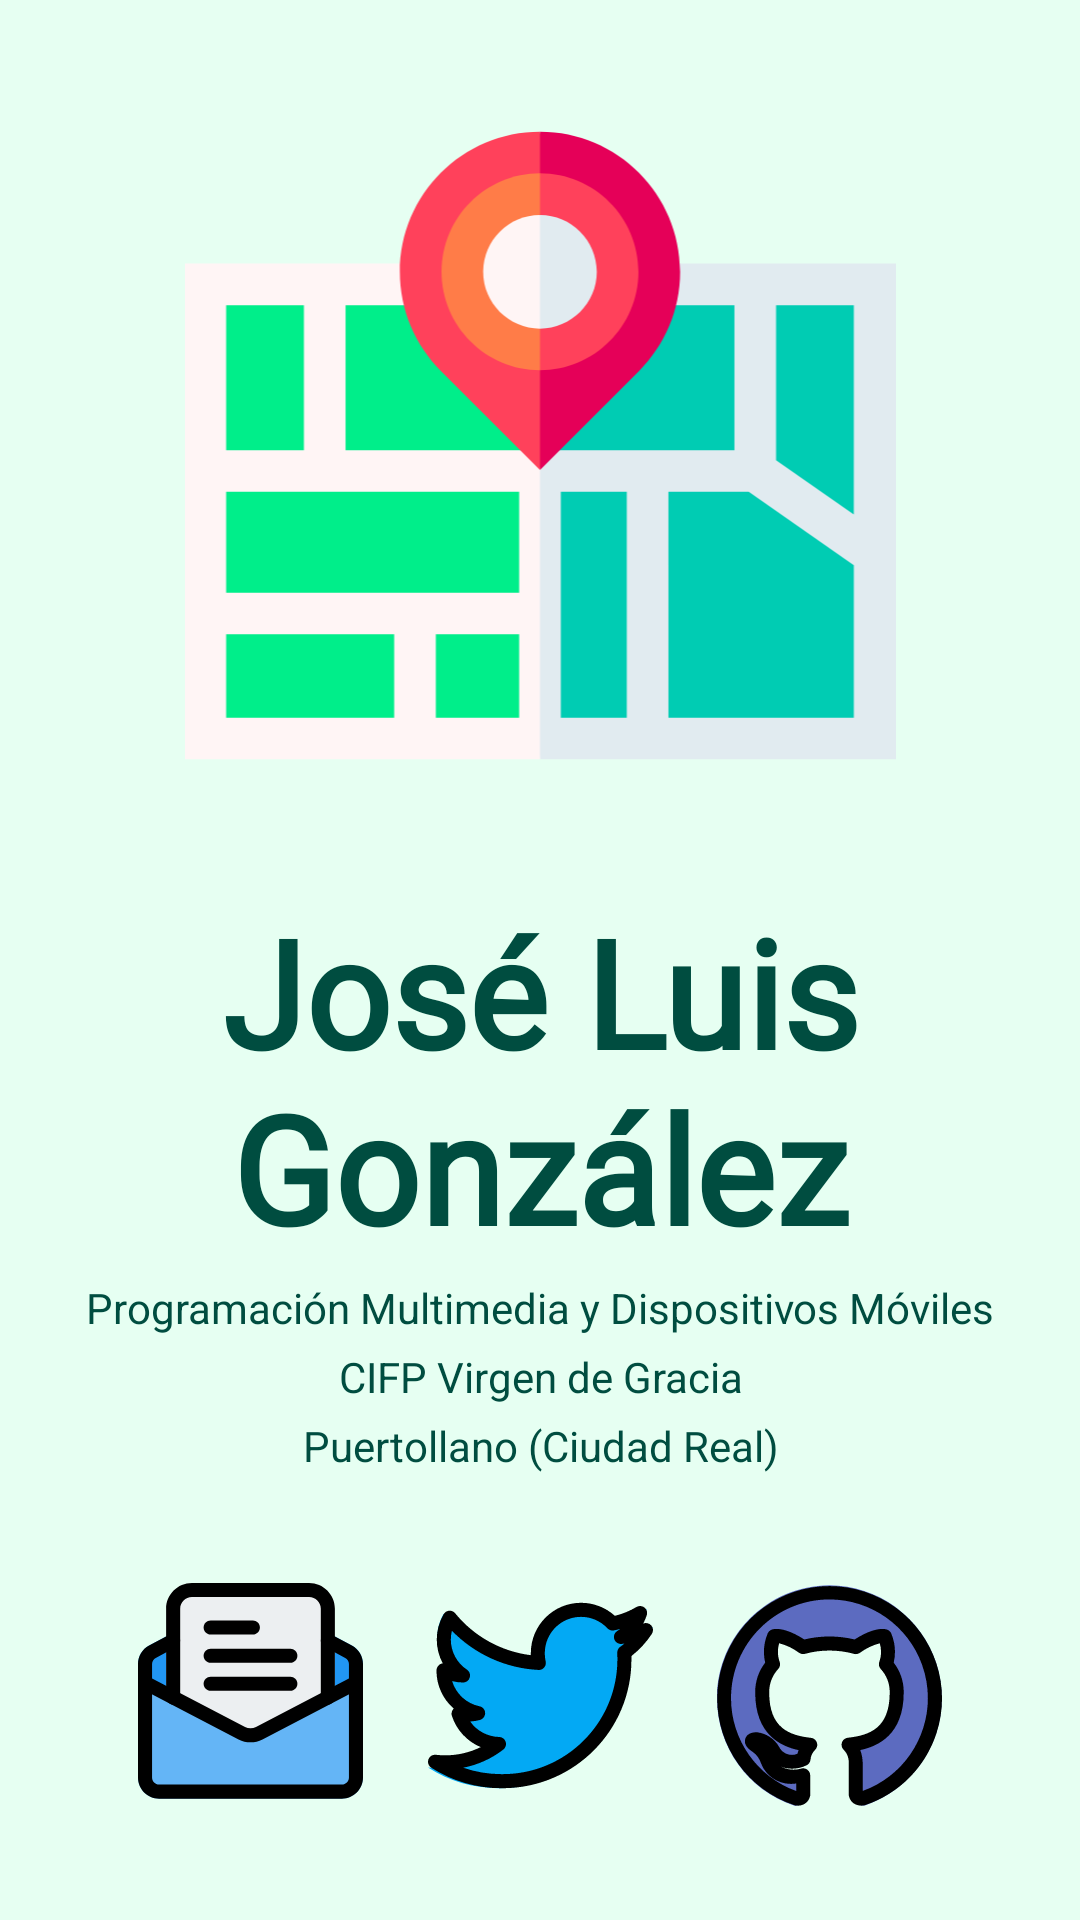

Where icons sit on this 1080*1920 app screen, as (x1,y1,x2,y2):
email: (138,1583,363,1799)
